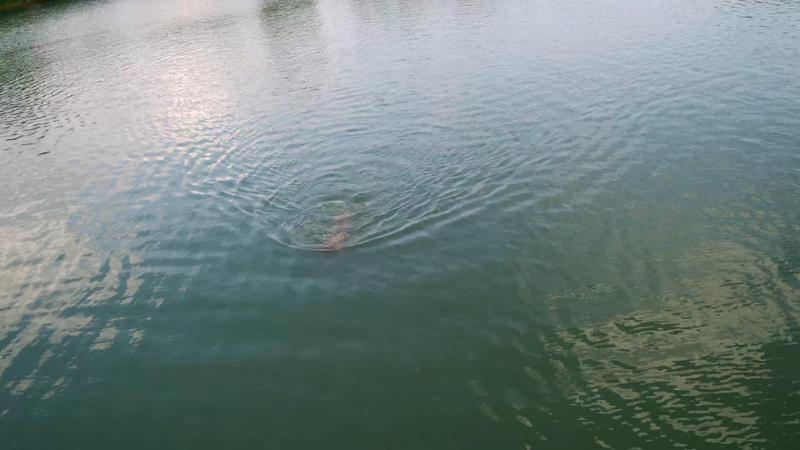passerby: (320, 209, 352, 254)
